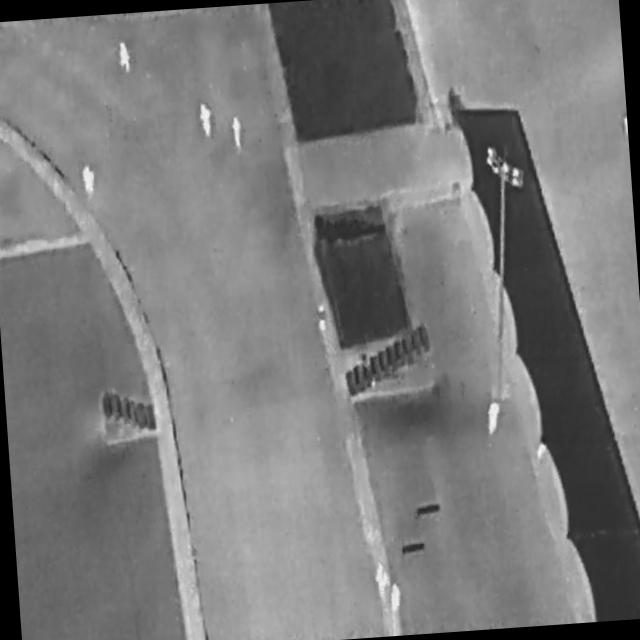person: (485, 399, 504, 439), (374, 562, 392, 604), (229, 116, 246, 153), (199, 100, 215, 137), (82, 166, 96, 198), (118, 42, 131, 75), (392, 579, 403, 615)
